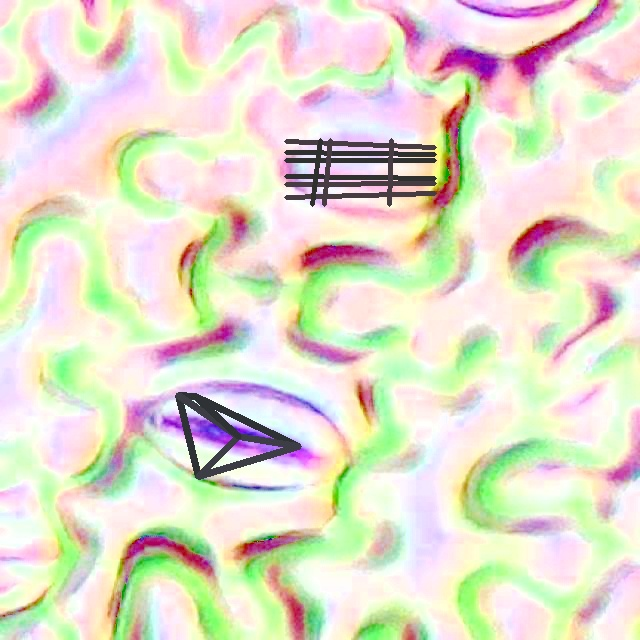close: (285, 139, 436, 206)
open: (175, 393, 301, 479)
